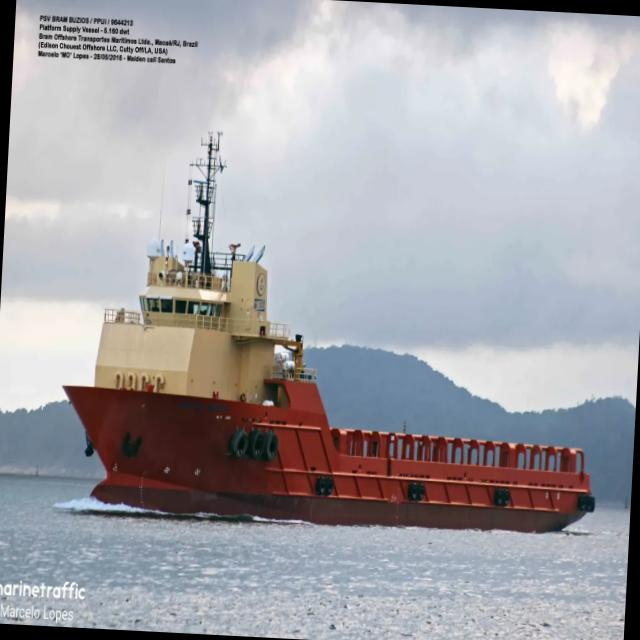Offshore: (64, 134, 595, 532)
